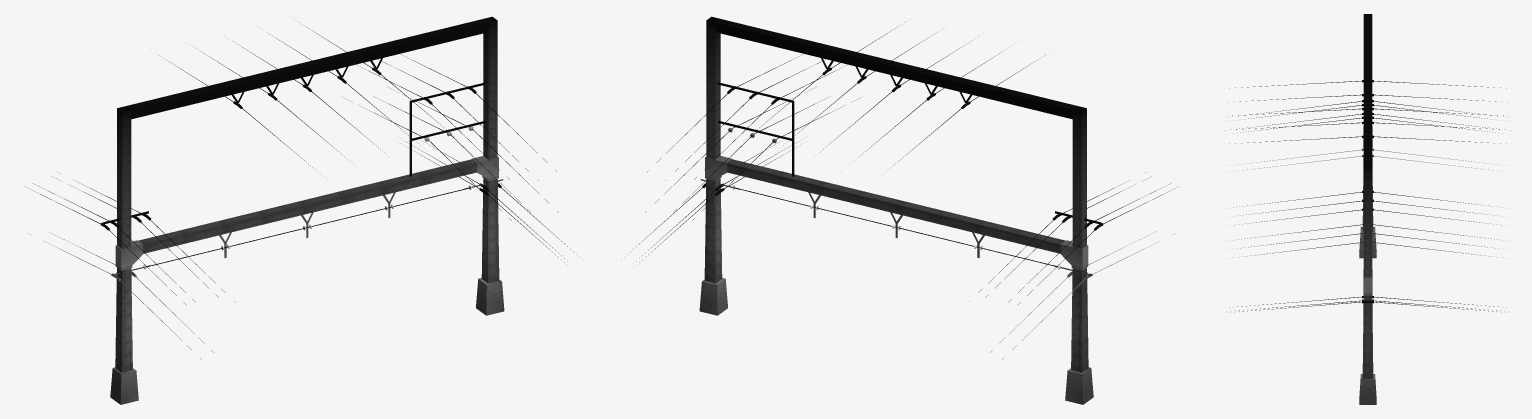
The model's file is KASENCHU_KIN04.glb.
3 views of the same model, side by side, from view 1: azimuth 30°, elevation 25°; view 2: azimuth 150°, elevation 25°; view 3: azimuth 270°, elevation 25° (orthographic). The views are drawn at different scales.
Visible parts, largest first — view 1: Base_Block; view 2: Base_Block; view 3: Base_Block.
Boxes of the visible parts, left/top/right/bottom form: Base_Block: left=24, top=16, right=579, bottom=404; Base_Block: left=624, top=16, right=1179, bottom=404; Base_Block: left=1227, top=14, right=1508, bottom=404.
Size of the model in its own units: 63.62 by 43.98 by 50.
Materials: 5 (5 with a texture image).
